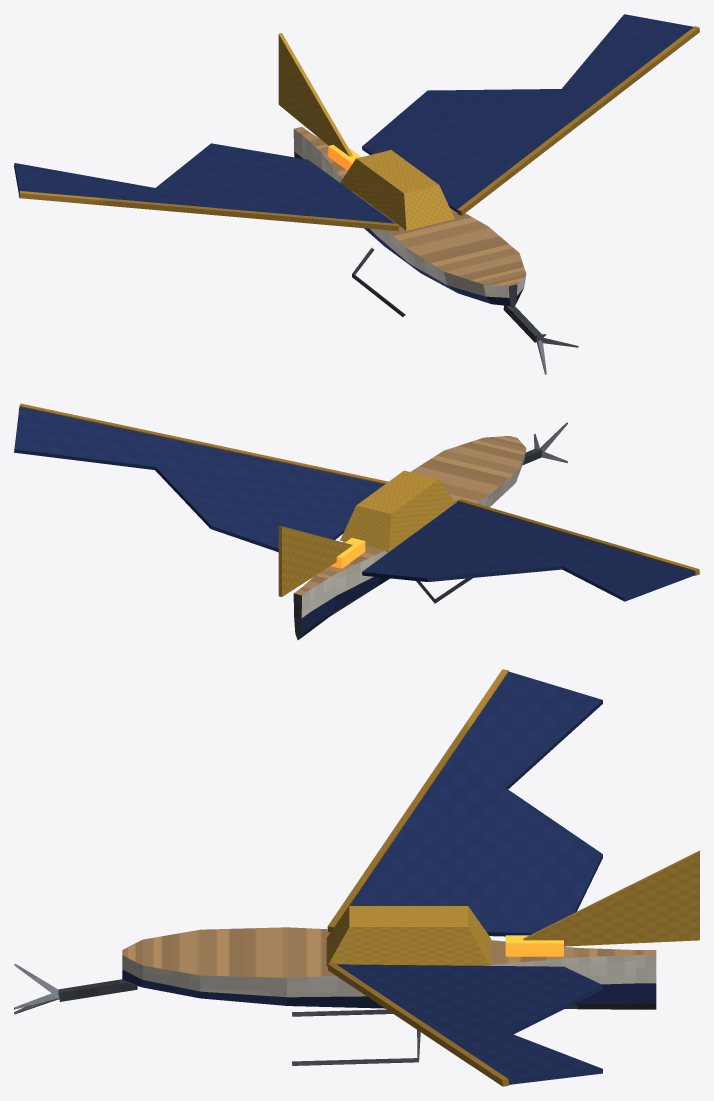
The model's file is SM_Ship_AssaultGlider_HQ.glb.
The picture shows the model from 3 angles, top to bottom: view 1: azimuth 30°, elevation 25°; view 2: azimuth 150°, elevation 25°; view 3: azimuth 270°, elevation 25°; orthographic projection. The views are drawn at different scales.
Parts seen in each view (by area): view 1: SM_Ship_AssaultGlider_HQ; view 2: SM_Ship_AssaultGlider_HQ; view 3: SM_Ship_AssaultGlider_HQ.
Boxes of the visible parts, <box> form: SM_Ship_AssaultGlider_HQ: <box>14,14,699,374</box>; SM_Ship_AssaultGlider_HQ: <box>14,403,699,639</box>; SM_Ship_AssaultGlider_HQ: <box>14,669,699,1086</box>.
Size of the model in its own units: 10.04 by 2.17 by 7.06.
Materials: 1 (1 with a texture image).
